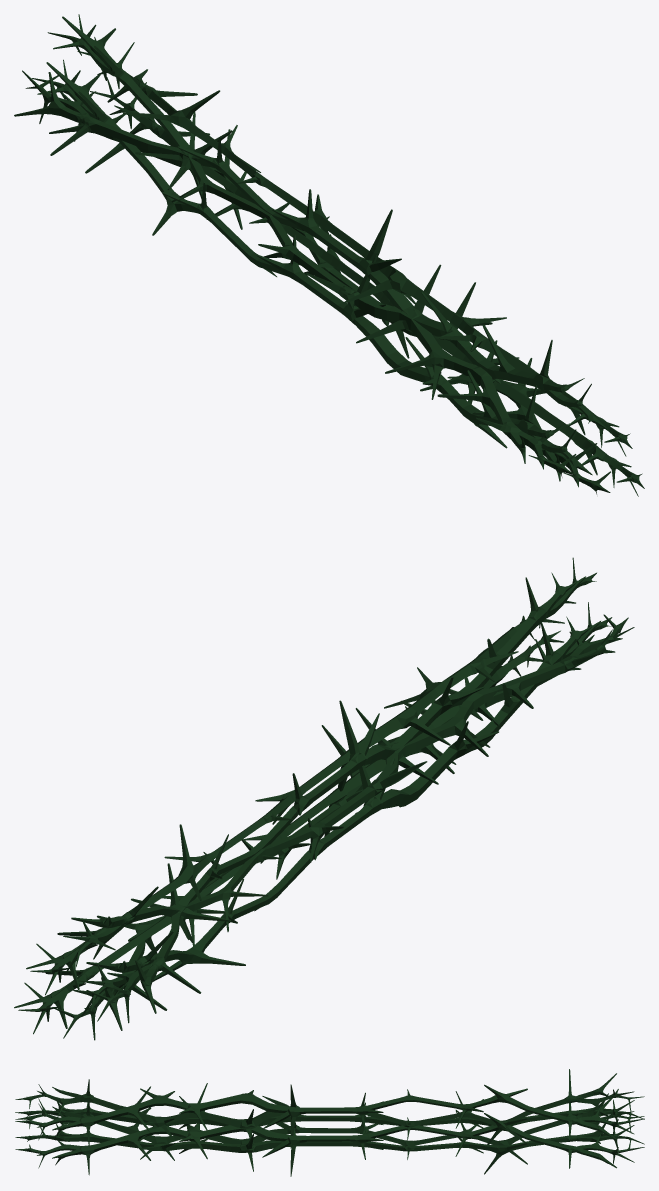
The model's file is 荆棘丛.fbx.
3 renders of one model, top to bottom at view 1: azimuth 30°, elevation 25°; view 2: azimuth 150°, elevation 25°; view 3: azimuth 270°, elevation 25°, orthographic. The views are drawn at different scales.
Parts seen in each view (by area): view 1: 平面.002; view 2: 平面.002; view 3: 平面.002.
Part boxes in pixels (bbox=[...]): 平面.002: bbox=[14, 14, 644, 496]; 平面.002: bbox=[14, 557, 634, 1040]; 平面.002: bbox=[15, 1069, 644, 1176].
Bounding box in the file's own units: 212 × 197 × 1266.
